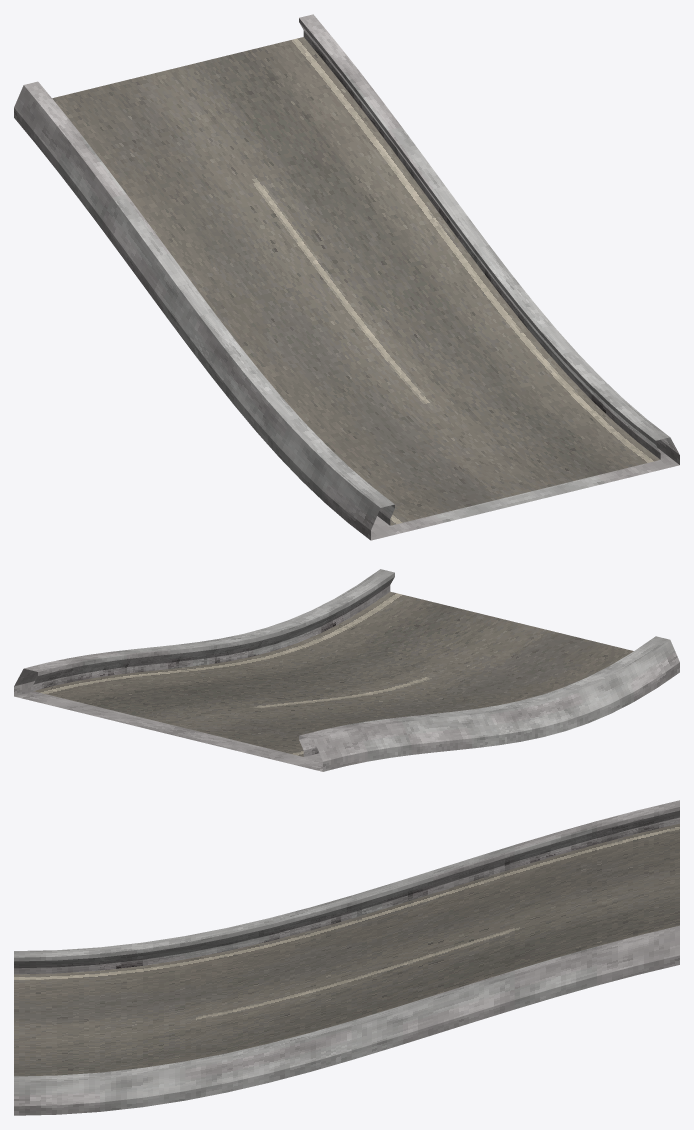
The model's file is straight2.glb.
3 renders of one model, top to bottom at view 1: azimuth 30°, elevation 25°; view 2: azimuth 150°, elevation 25°; view 3: azimuth 270°, elevation 25°, orthographic. The views are drawn at different scales.
Parts seen in each view (by area): view 1: road-Straight-Flat-BiSlopeUp-Up2-Center-Size2; view 2: road-Straight-Flat-BiSlopeUp-Up2-Center-Size2; view 3: road-Straight-Flat-BiSlopeUp-Up2-Center-Size2.
Part boxes in pixels (box(x1,y1,x2,y2)): road-Straight-Flat-BiSlopeUp-Up2-Center-Size2: box(14, 14, 679, 540); road-Straight-Flat-BiSlopeUp-Up2-Center-Size2: box(14, 569, 679, 771); road-Straight-Flat-BiSlopeUp-Up2-Center-Size2: box(14, 800, 679, 1115).
Bounding box in the file's own units: 1 × 0.5938 × 2.
Materials: 2 (2 with a texture image).
